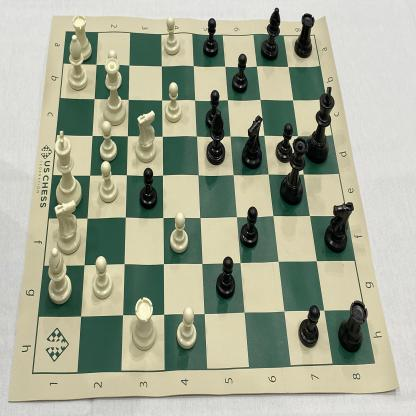black-bishop: (259, 7, 281, 62), (206, 110, 226, 166)
black-king: (305, 85, 336, 165)
black-knight: (322, 201, 355, 254), (242, 114, 264, 170)
black-pawn: (297, 303, 321, 349), (137, 167, 159, 210), (238, 205, 259, 249), (216, 255, 236, 301), (274, 121, 293, 164), (205, 88, 223, 131), (232, 53, 249, 95), (202, 17, 219, 58)
black-queen: (279, 135, 309, 206)
black-rook: (337, 299, 369, 353), (292, 11, 315, 61)
white-bishop: (45, 247, 73, 308), (66, 33, 89, 93)
white-king: (52, 129, 83, 209)
white-knight: (135, 109, 158, 164)
white-pawn: (175, 305, 198, 352), (91, 254, 114, 300), (97, 159, 119, 204), (167, 210, 189, 255), (98, 119, 117, 162), (165, 81, 183, 124), (163, 14, 181, 56), (106, 48, 123, 88)
white-queen: (100, 57, 128, 125)
white-rook: (130, 295, 158, 352), (53, 200, 82, 255), (71, 13, 92, 61)
